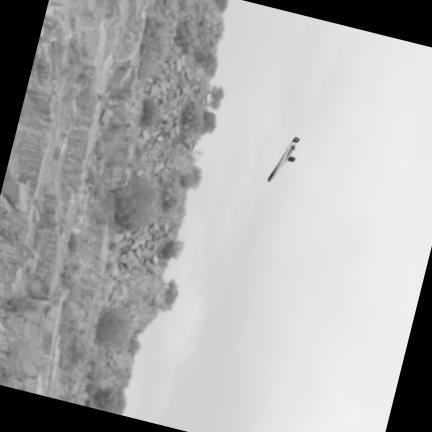Shahed: (267, 137, 298, 180)
